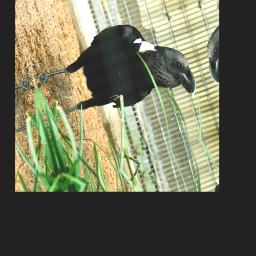Crow: (29, 2, 200, 151)
